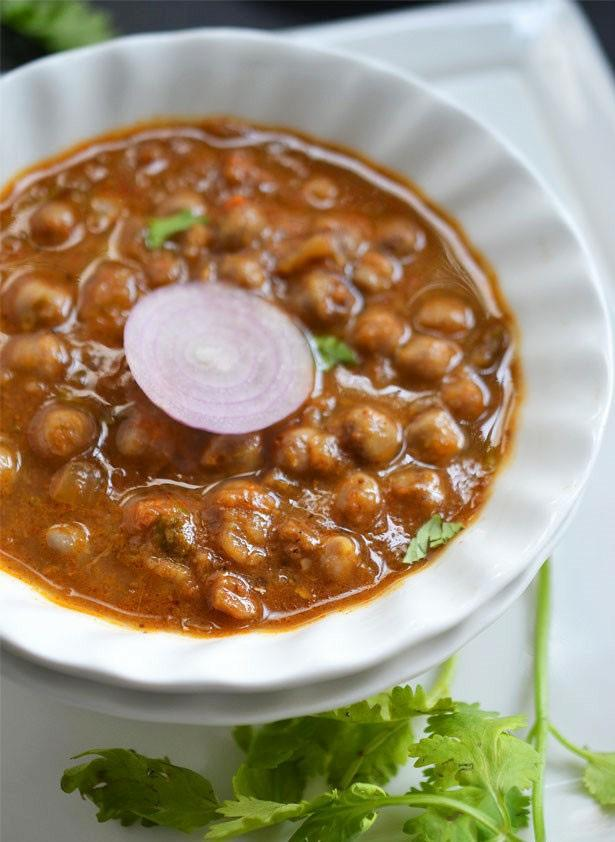Chole: (1, 121, 518, 633)
